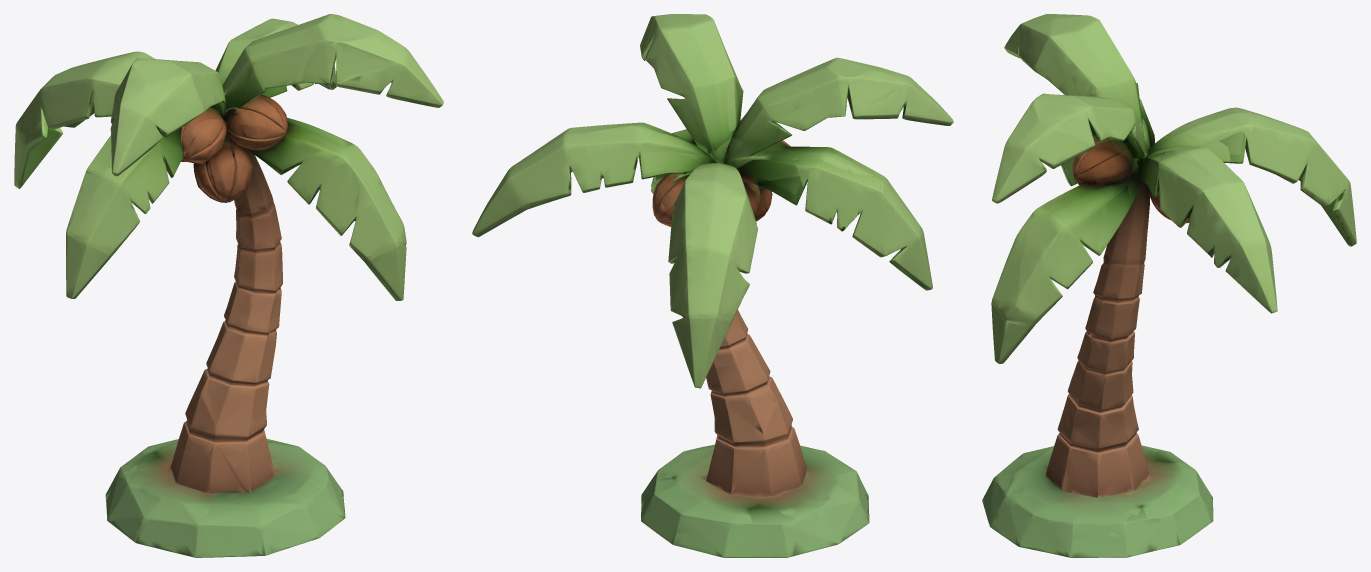
3 renders of one model, left to right at view 1: azimuth 30°, elevation 25°; view 2: azimuth 150°, elevation 25°; view 3: azimuth 270°, elevation 25°, orthographic. The views are drawn at different scales.
Parts seen in each view (by area): view 1: node_0; view 2: node_0; view 3: node_0.
Boxes of the visible parts, x1,y1,x2,y2 form: node_0: [14, 14, 443, 557]; node_0: [472, 14, 953, 557]; node_0: [982, 14, 1356, 557].
Size of the model in its own units: 0.7922 by 0.9579 by 0.7184.
Materials: 1 (1 with a texture image).
